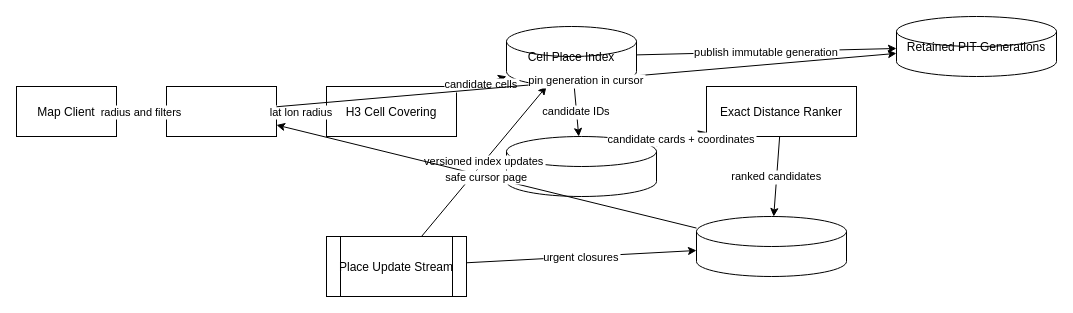
This 1073x313 diagram has some shape labels left out. The centre of each missing label's shape, as x and y in pixels:
Closure Suppression: [771,246]
Nearby API: [221,111]
Place Metadata Store: [581,166]
